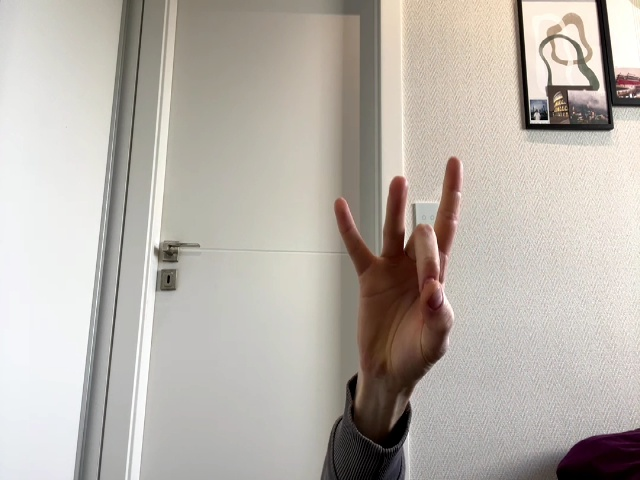G: (333, 156, 463, 384)
